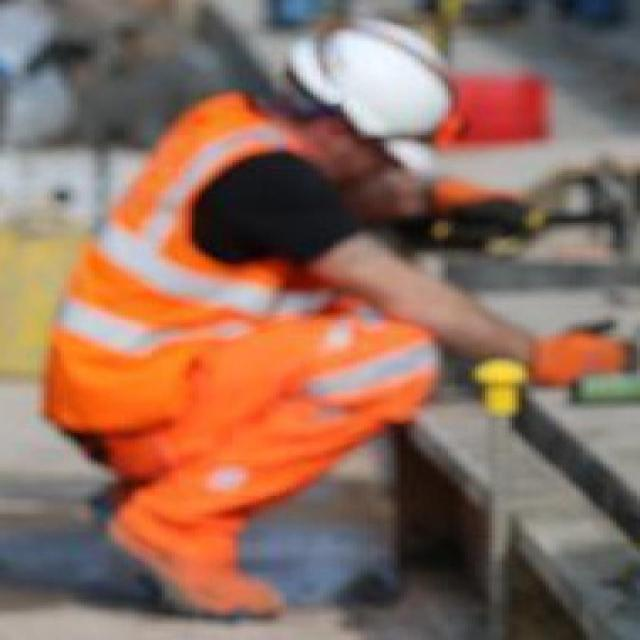Helmet: (267, 7, 529, 180)
Safety Vest: (41, 59, 365, 484)
